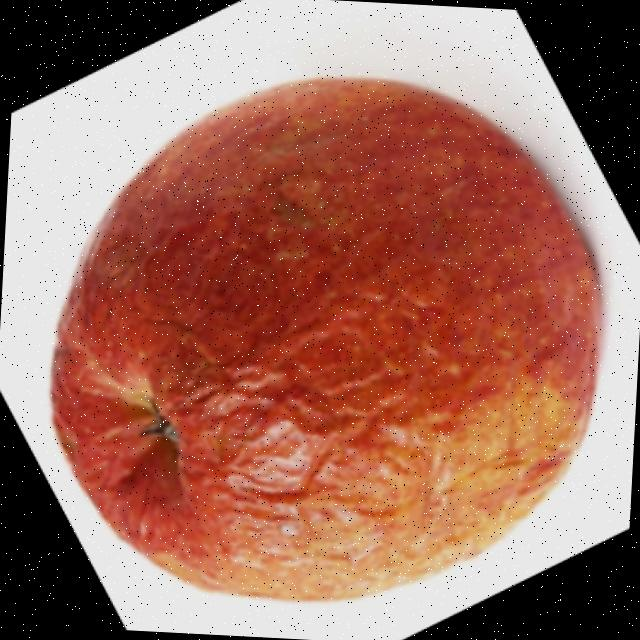overripe: (31, 58, 616, 620)
